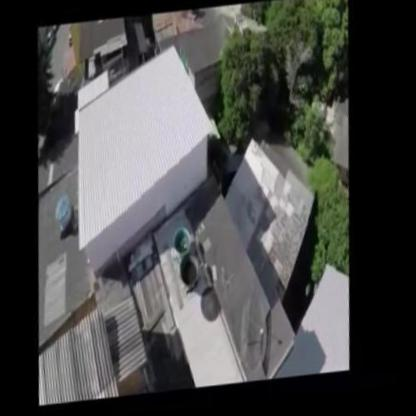agua: (184, 258, 202, 288), (179, 230, 195, 253)
